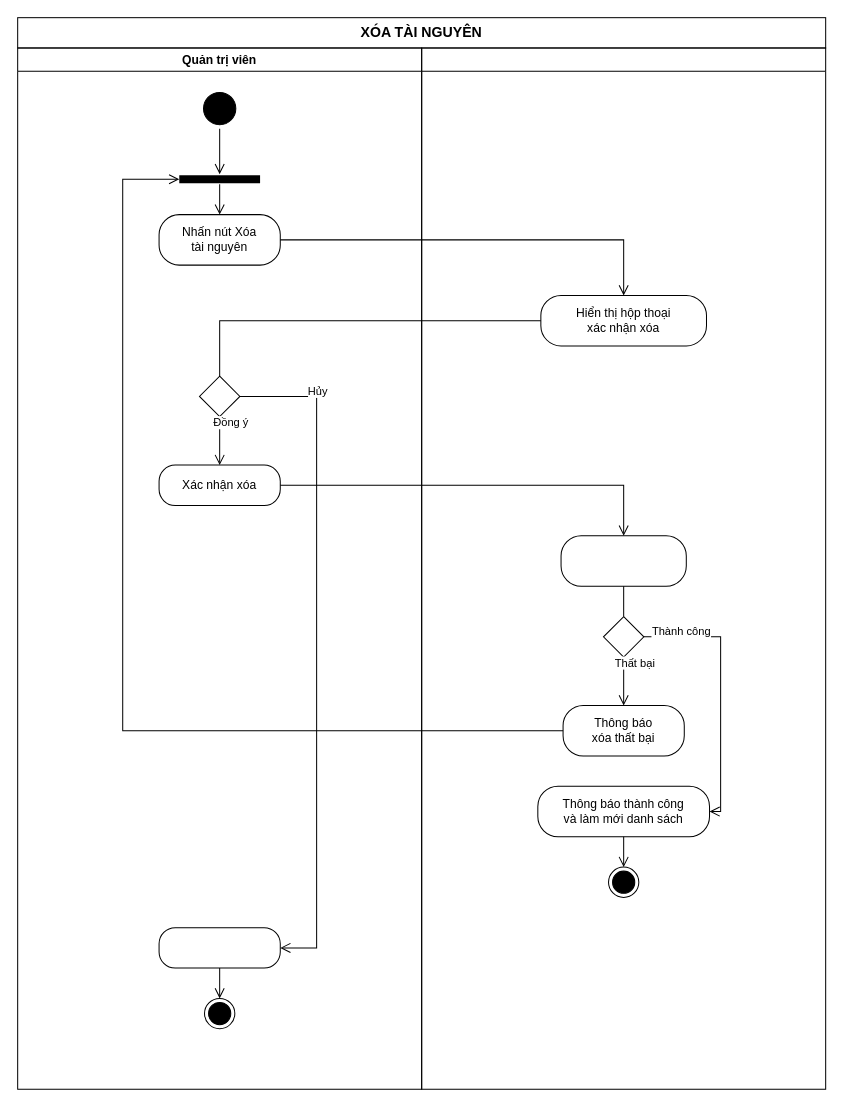
The diagram is 843 pixels wide and 1107 high, and some of its shapes have lost their labels. The box of each missing label's shape, as (x1, y1, x2, y2) in pixels:
Hệ thống: (421, 47, 826, 1089)
Hủy bỏ: (158, 927, 280, 968)
Thực hiện xóa tài nguyên: (560, 535, 686, 586)
